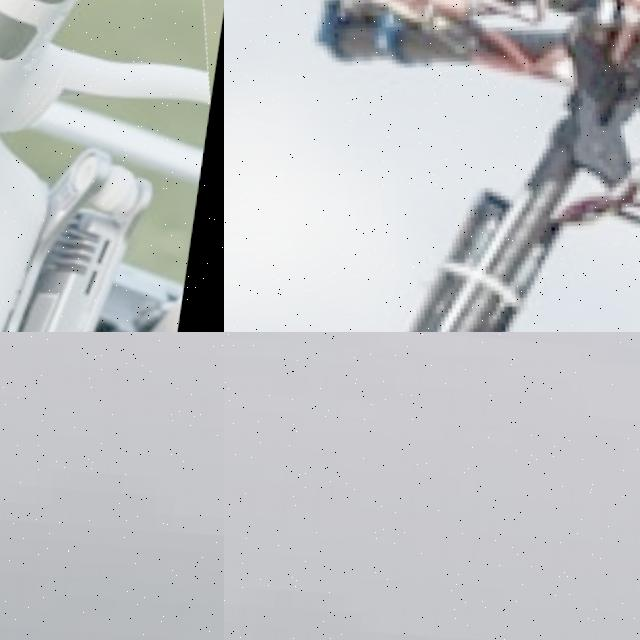drone: (224, 0, 640, 332), (0, 0, 224, 332)
